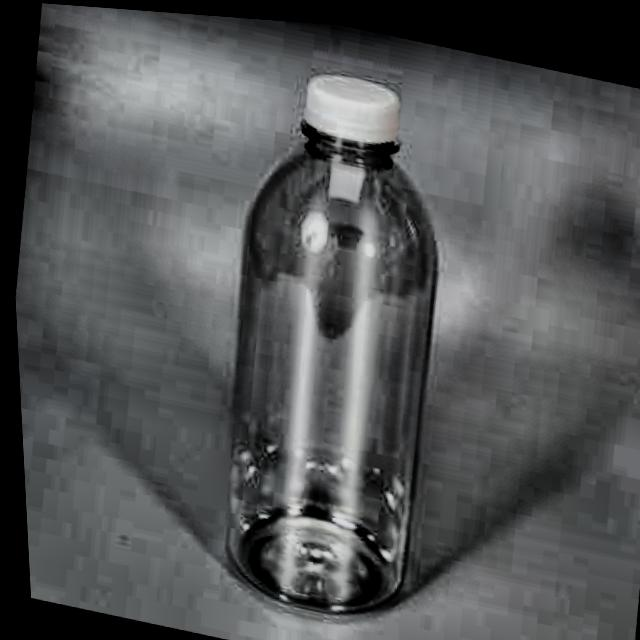Bottles: (154, 38, 498, 640)
